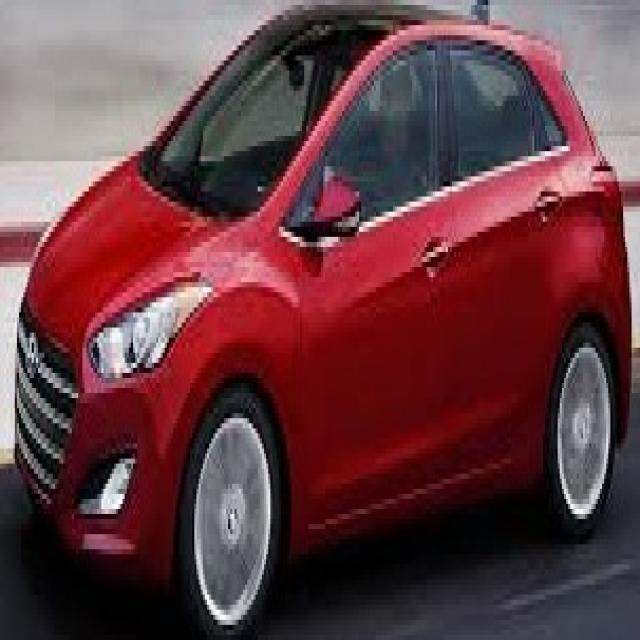red: (13, 0, 640, 597)
